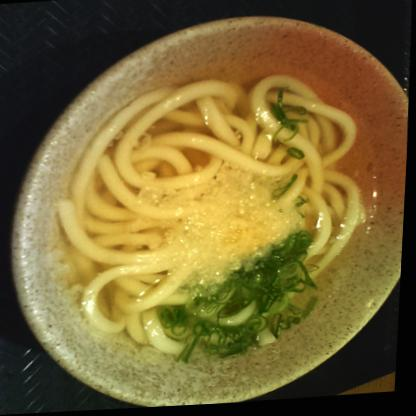Udon: (51, 63, 381, 367)
